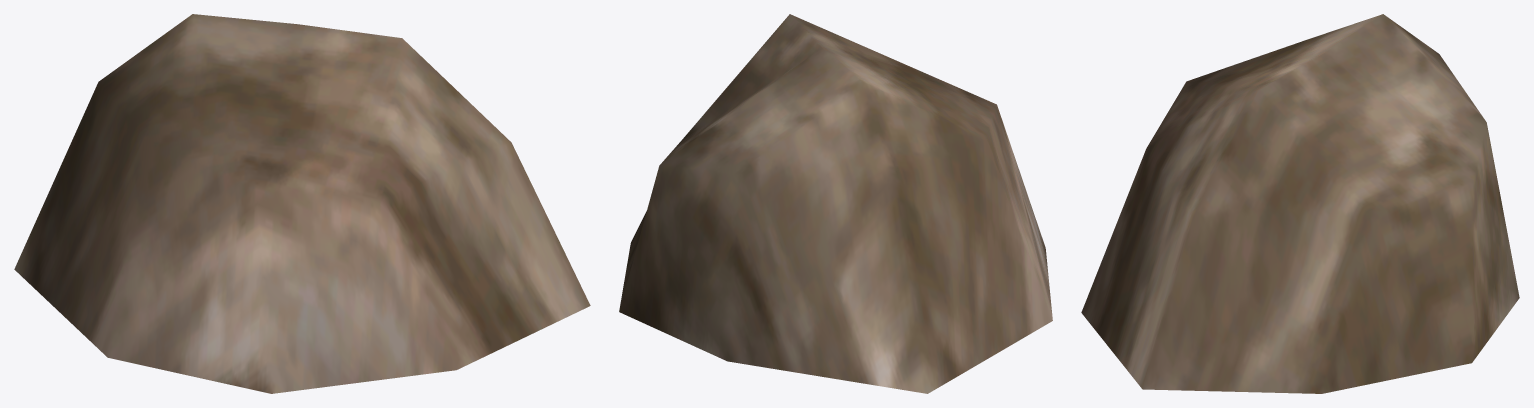
File: OVERHILL_A_01_ROCK85.fbx
3 views of the same model, side by side, from view 1: azimuth 30°, elevation 25°; view 2: azimuth 150°, elevation 25°; view 3: azimuth 270°, elevation 25° (orthographic). The views are drawn at different scales.
Parts seen in each view (by area): view 1: OVERHILL_A_01_ROCK85; view 2: OVERHILL_A_01_ROCK85; view 3: OVERHILL_A_01_ROCK85.
Part boxes in pixels (x1,y1,x2,y2): OVERHILL_A_01_ROCK85: (14,14,590,393); OVERHILL_A_01_ROCK85: (619,14,1052,393); OVERHILL_A_01_ROCK85: (1081,14,1519,393).
Bounding box in the file's own units: 3883 × 2312 × 3666.
Materials: 1 (1 with a texture image).
